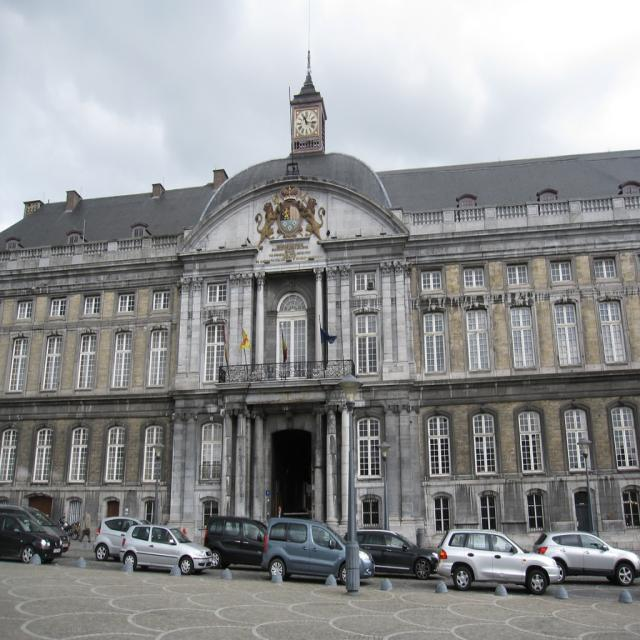car: (430, 534, 570, 594)
